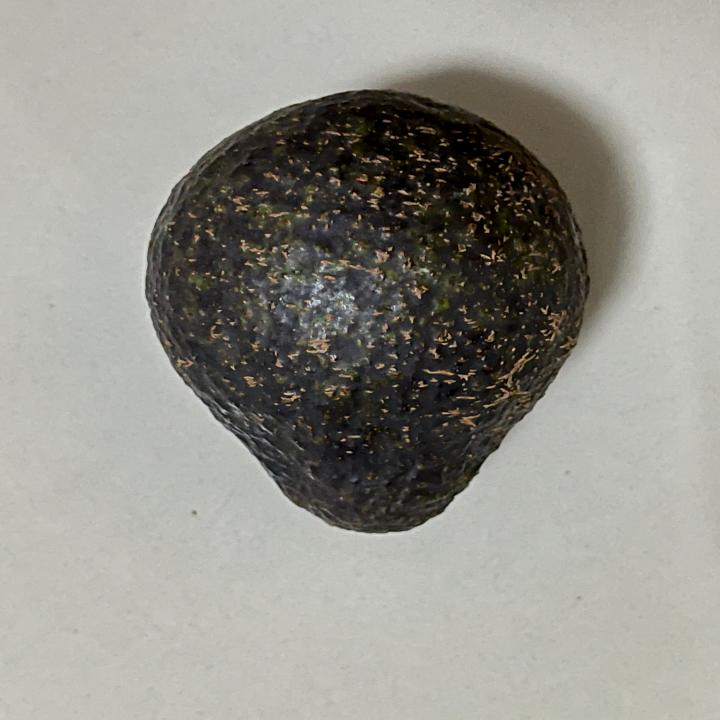Level1: (126, 76, 606, 552)
